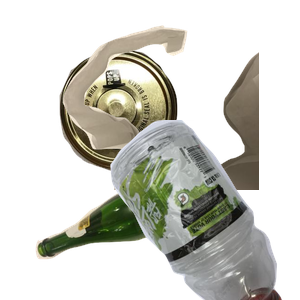glass: (33, 158, 246, 300)
metal: (57, 47, 227, 211)
plastic: (73, 120, 300, 300)
trash: (60, 23, 300, 203)
